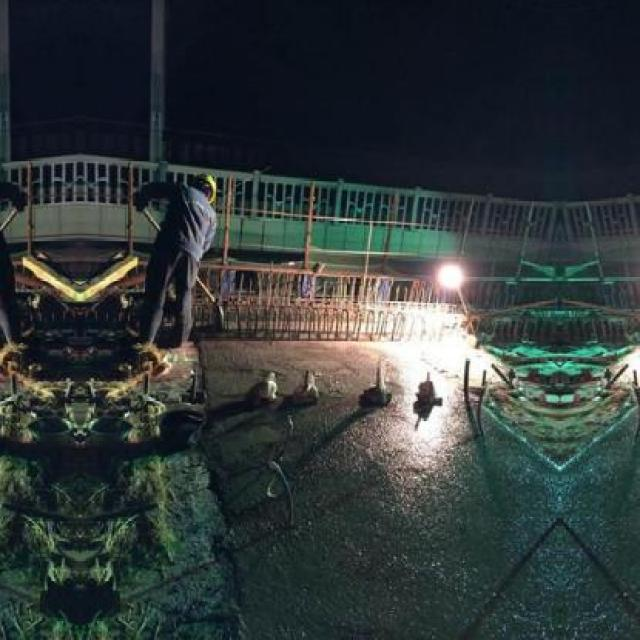helmet: (188, 165, 224, 204)
